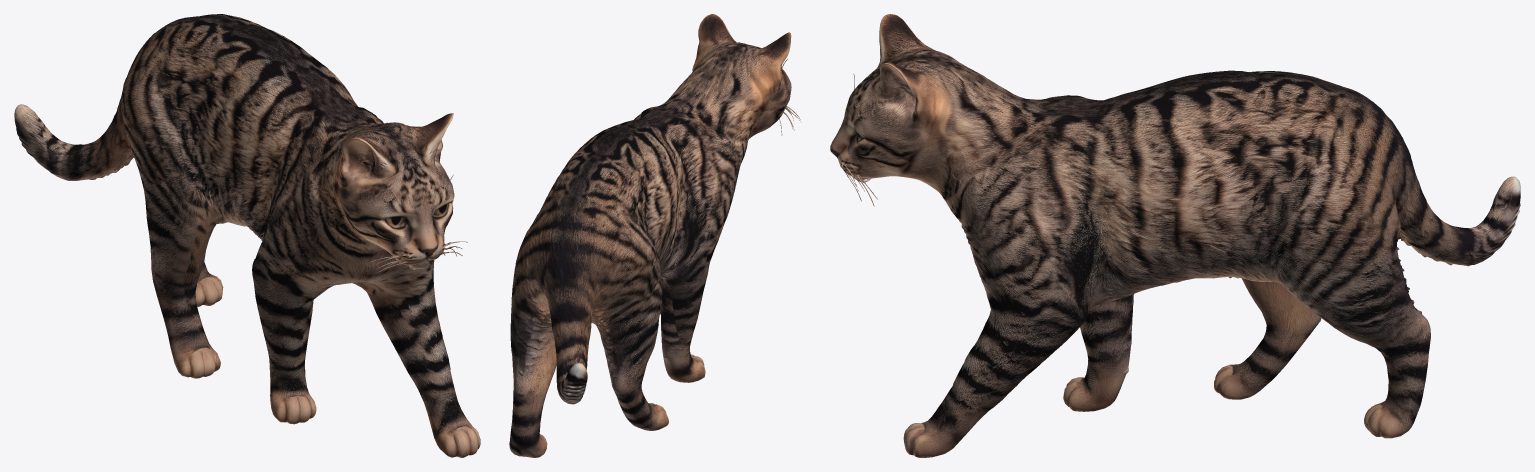
The model's file is wildlife_cat.glb.
The picture shows the model from 3 angles, left to right: view 1: azimuth 30°, elevation 25°; view 2: azimuth 150°, elevation 25°; view 3: azimuth 270°, elevation 25°; orthographic projection. The views are drawn at different scales.
Bounding box in the file's own units: 0.2496 × 0.4505 × 0.75.
1 material, 1 textured.
